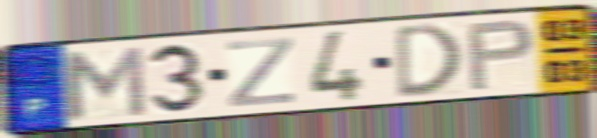3: (146, 40, 208, 119)
4: (306, 27, 368, 105)
D: (393, 20, 464, 101)
M: (57, 44, 150, 122)
P: (465, 17, 537, 94)
Z: (225, 35, 297, 110)
